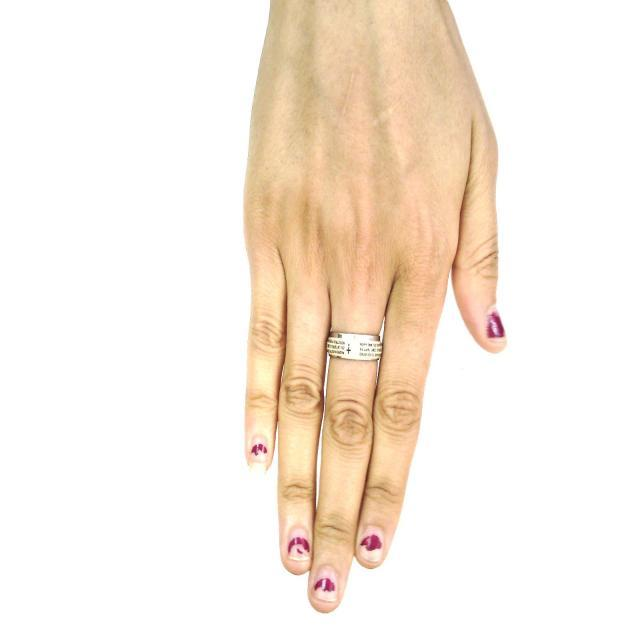Fingernail: (360, 528, 384, 562), (287, 528, 310, 563), (314, 568, 338, 601), (250, 439, 269, 467), (488, 310, 505, 339)
